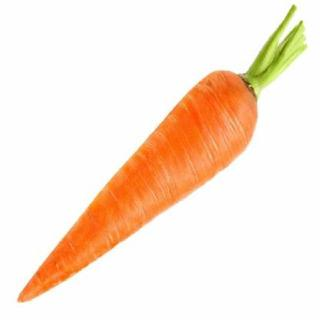carrot: (14, 65, 258, 307)
